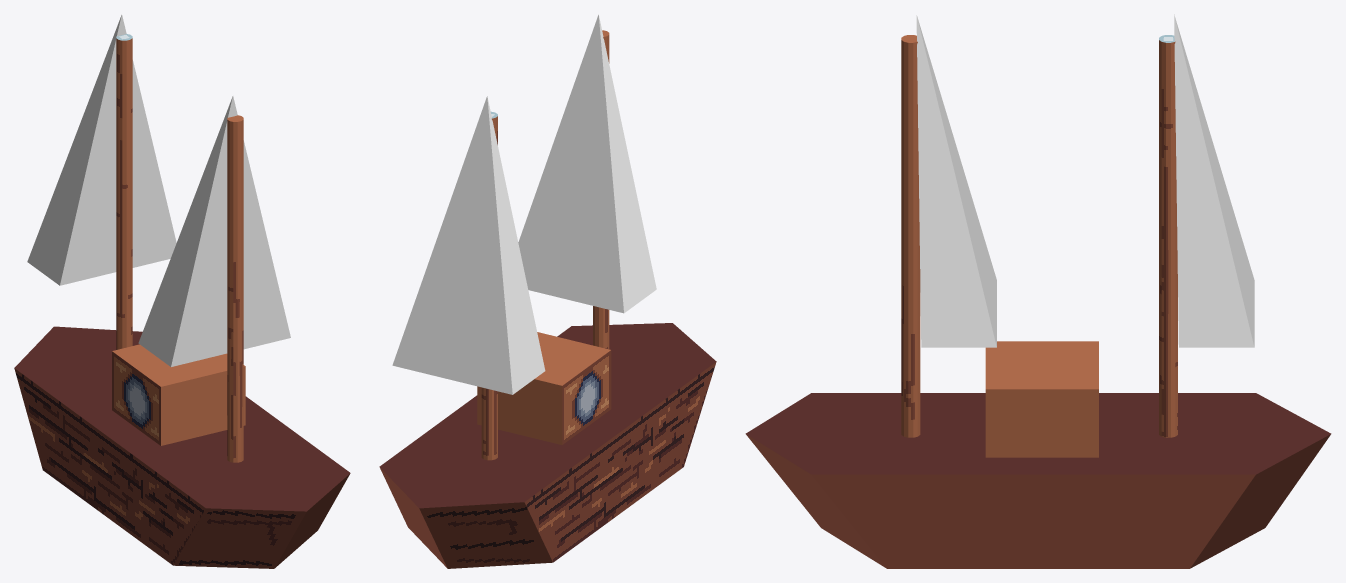
Rendered from Boat.gltf.
3 views of the same model, side by side, from view 1: azimuth 30°, elevation 25°; view 2: azimuth 150°, elevation 25°; view 3: azimuth 270°, elevation 25° (orthographic). The views are drawn at different scales.
Visible parts, largest first — view 1: mesh (×2), pyramid (×2), cylinder (×2); view 2: mesh (×2), pyramid (×2), cylinder (×2); view 3: mesh (×2), pyramid (×2), cylinder (×2).
Boxes of the visible parts, x1,y1,x2,y2 form: mesh (×2): (14,326,350,568); pyramid (×2): (27,14,290,366); cylinder (×2): (116,34,243,462); mesh (×2): (379,323,716,568); pyramid (×2): (392,14,656,394); cylinder (×2): (481,30,609,460); mesh (×2): (745,341,1331,568); pyramid (×2): (916,14,1254,347); cylinder (×2): (901,35,1177,437).
Size of the model in its own units: 1.28 by 3.75 by 3.88.
Materials: 1 (1 with a texture image).
